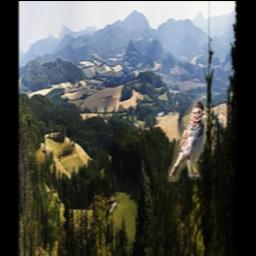Sparrow: (168, 97, 208, 182)
